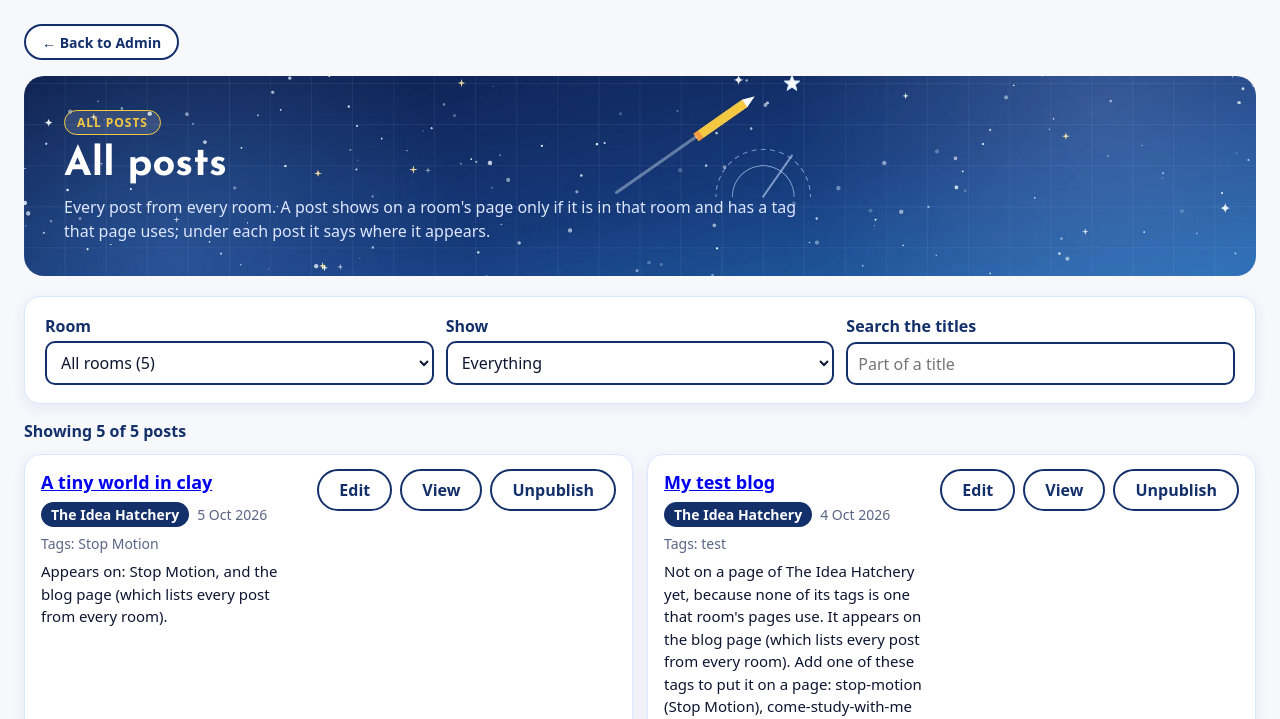
it: the filters › shows the drafts when asked, saying they are not published, and everything when asked
Expected: the link "My test blog" is shown, [664, 470, 775, 494]
Select "Not published (drafts)" in the dropdown labelled "Show" at [640, 363], box [446, 341, 834, 385]
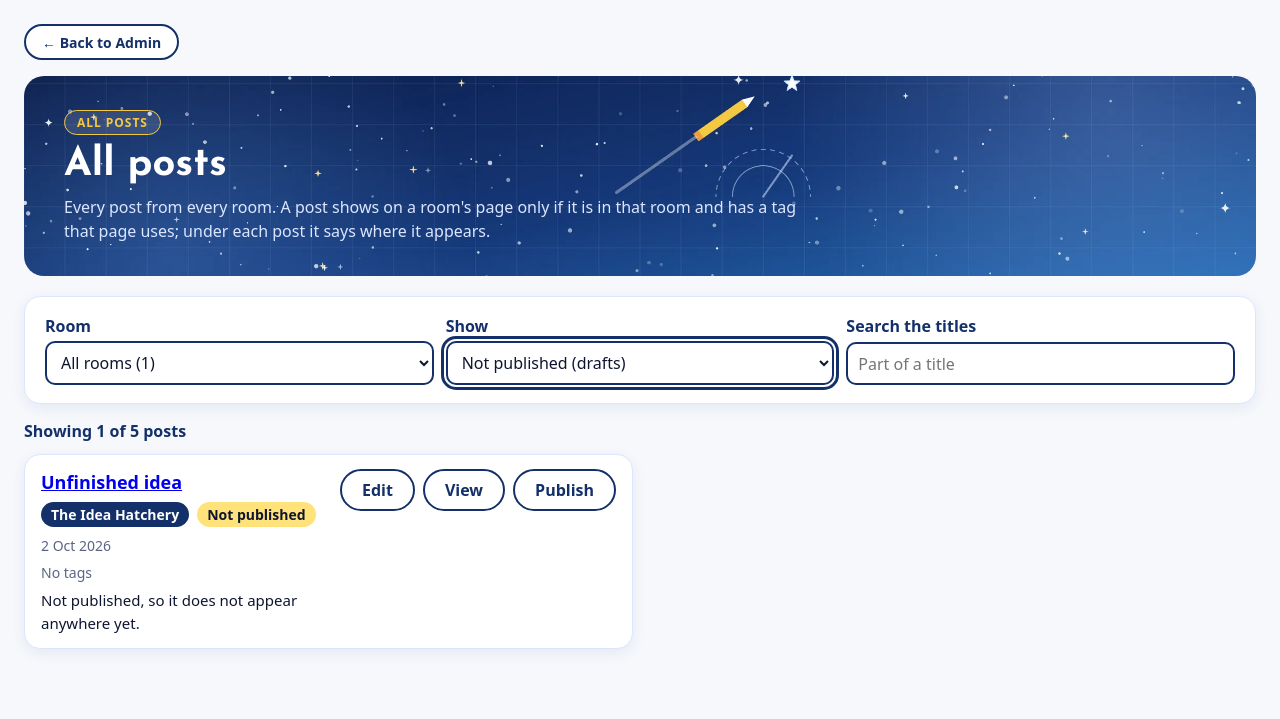
Expected: the text "Not published" is shown, [197, 502, 316, 527]
Now the message reads "Showing 1 of 5 posts", box [24, 420, 186, 442]
Select "Everything" in the dropdown labelled "Show" at [640, 363], box [446, 341, 834, 385]
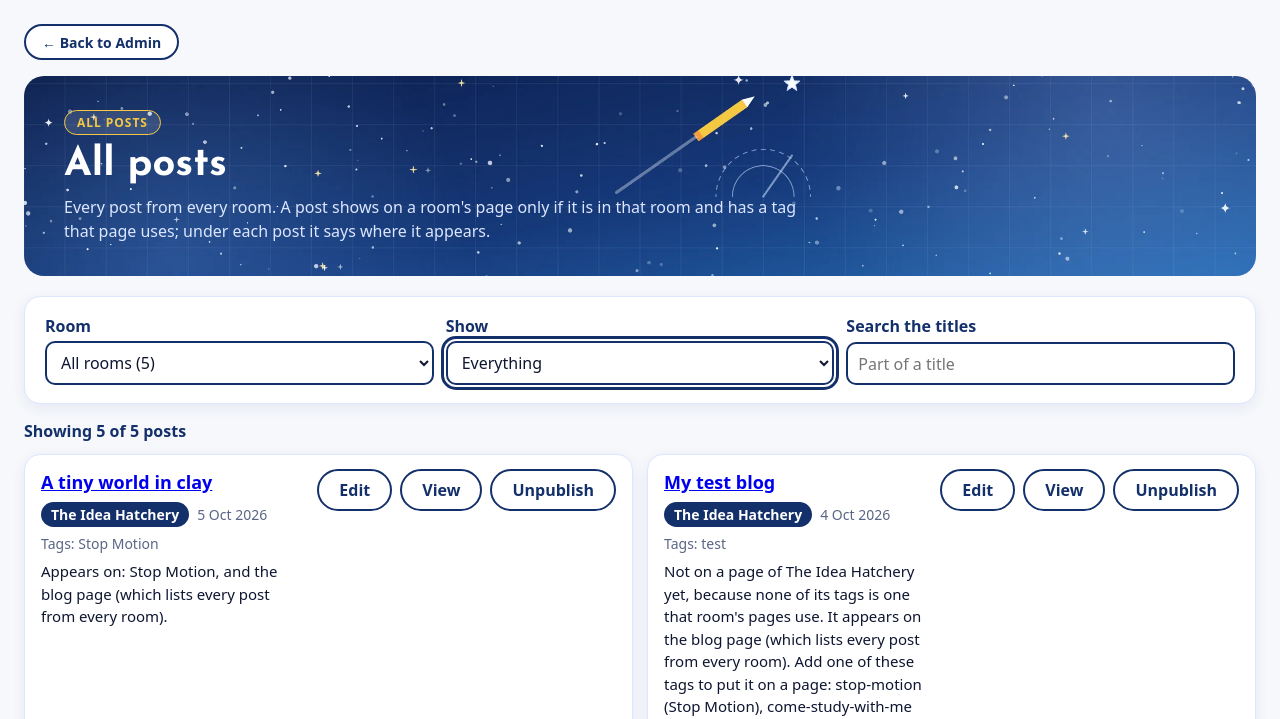
Now the message reads "Showing 5 of 5 posts", box [24, 420, 186, 442]
